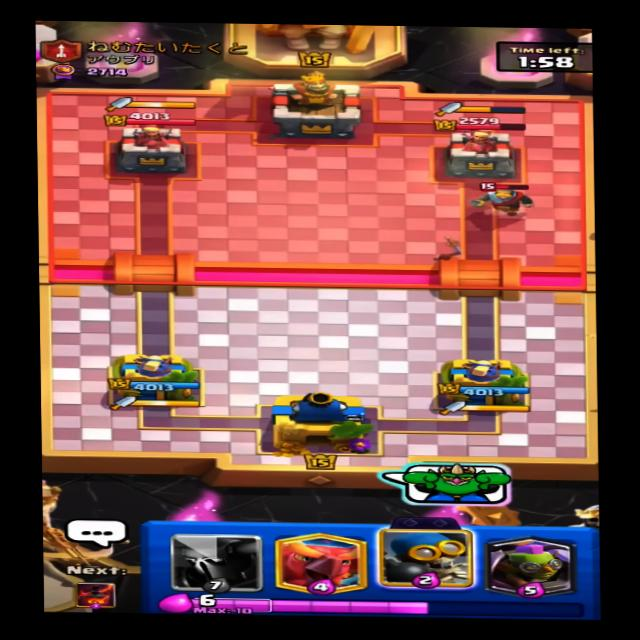knight: (466, 177, 537, 218)
